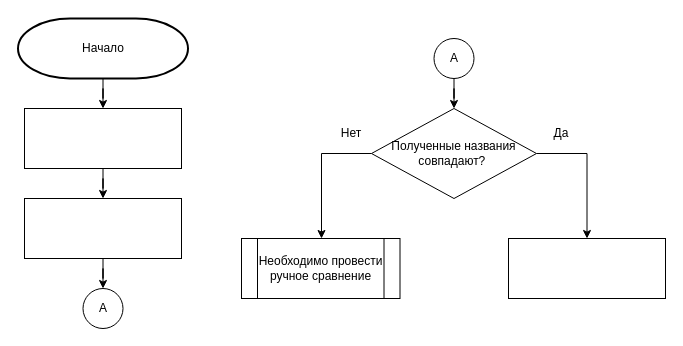
This 683x346 diagram has some shape labels left out. The centre of each missing label's shape, as x and y in pixels:
Отправка HTTP запроса с название с первого ресурса: the point at 103,138
Отправка HTTP запроса с название со второго ресурса: the point at 103,228
Сохранить обобщенное название: the point at 587,268
